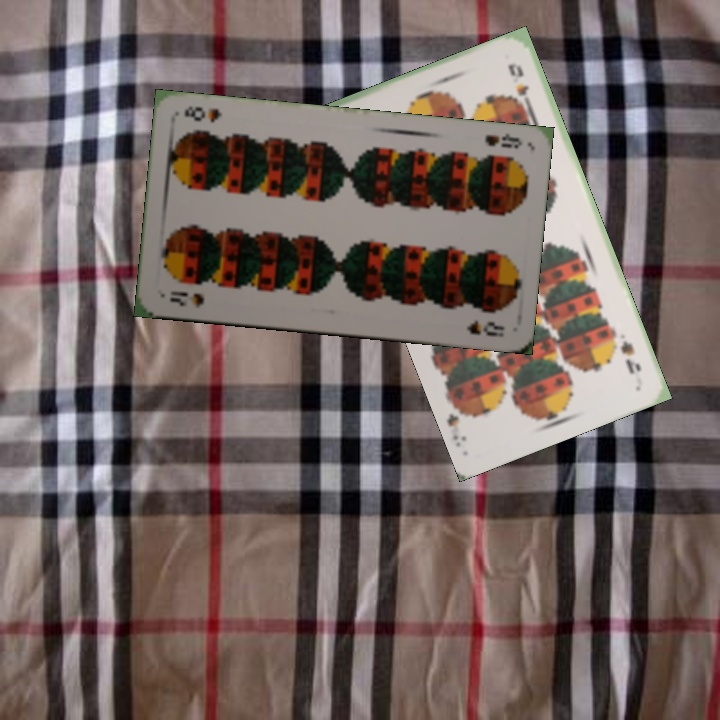S8: (166, 286, 207, 310), (481, 130, 525, 152)
S9: (616, 336, 644, 377)
